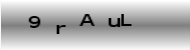9: (28, 15, 41, 28)
A: (78, 13, 95, 26)
L: (121, 13, 131, 27)
r: (55, 24, 66, 35)
u: (107, 17, 120, 27)
